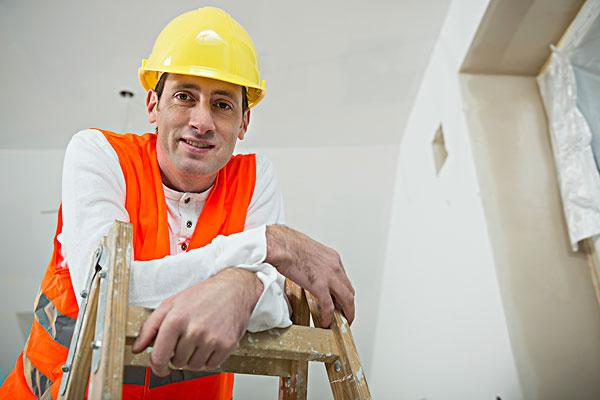helmet: (140, 7, 266, 105)
